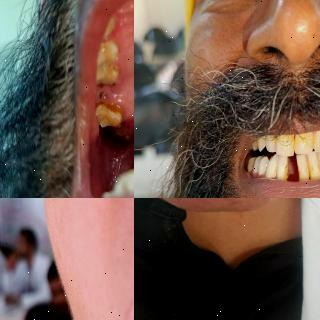Gum Swelling: (105, 11, 124, 44)
plaque: (272, 165, 280, 178)
stains: (96, 98, 122, 128), (299, 132, 309, 148), (282, 162, 292, 178), (309, 162, 320, 176), (297, 164, 307, 176), (286, 134, 294, 148), (312, 133, 318, 148), (270, 135, 276, 145), (318, 160, 320, 174)
